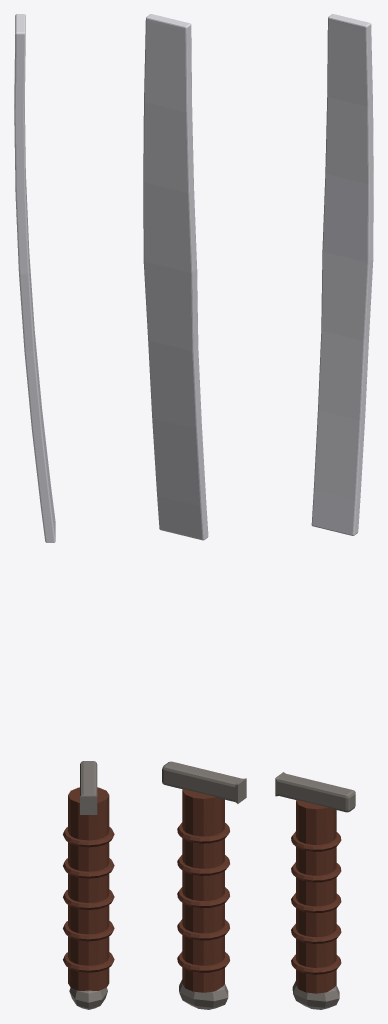
Rendered from scimitar.glb.
The picture shows the model from 3 angles, left to right: view 1: azimuth 90°, elevation 25°; view 2: azimuth 150°, elevation 25°; view 3: azimuth 330°, elevation 25°; orthographic projection. The views are drawn at different scales.
Visible parts, largest first — view 1: scimitar; view 2: scimitar; view 3: scimitar.
Boxes of the visible parts, x1,y1,x2,y2 form: scimitar: [14, 14, 114, 1009]; scimitar: [143, 14, 246, 1009]; scimitar: [275, 14, 373, 1009].
Size of the model in its own units: 0.05 by 0.6271 by 0.058.
3 materials, 1 textured.
